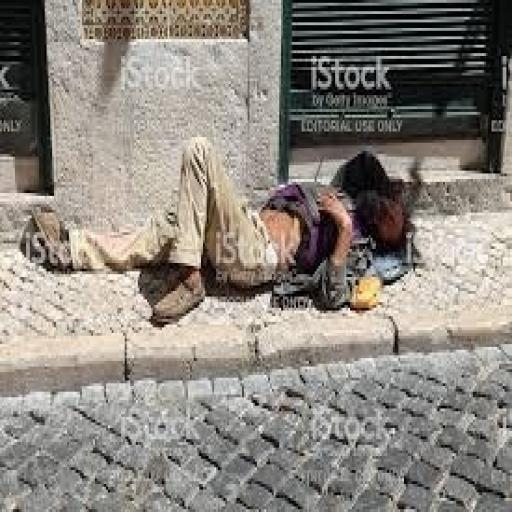sleeping: (18, 132, 420, 328)
